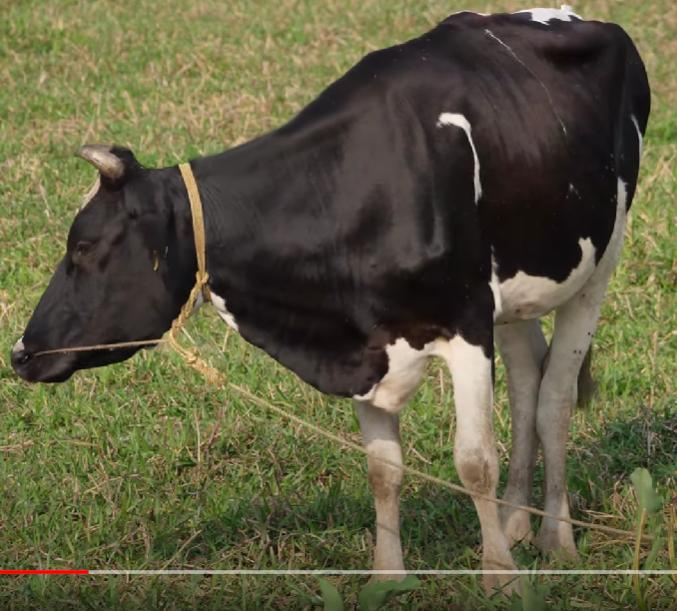cow: (9, 10, 654, 595)
